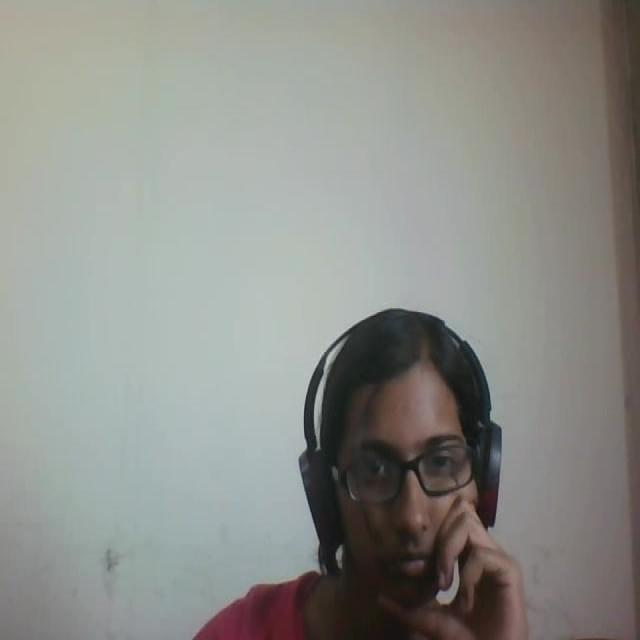Bored: (266, 303, 540, 640)
